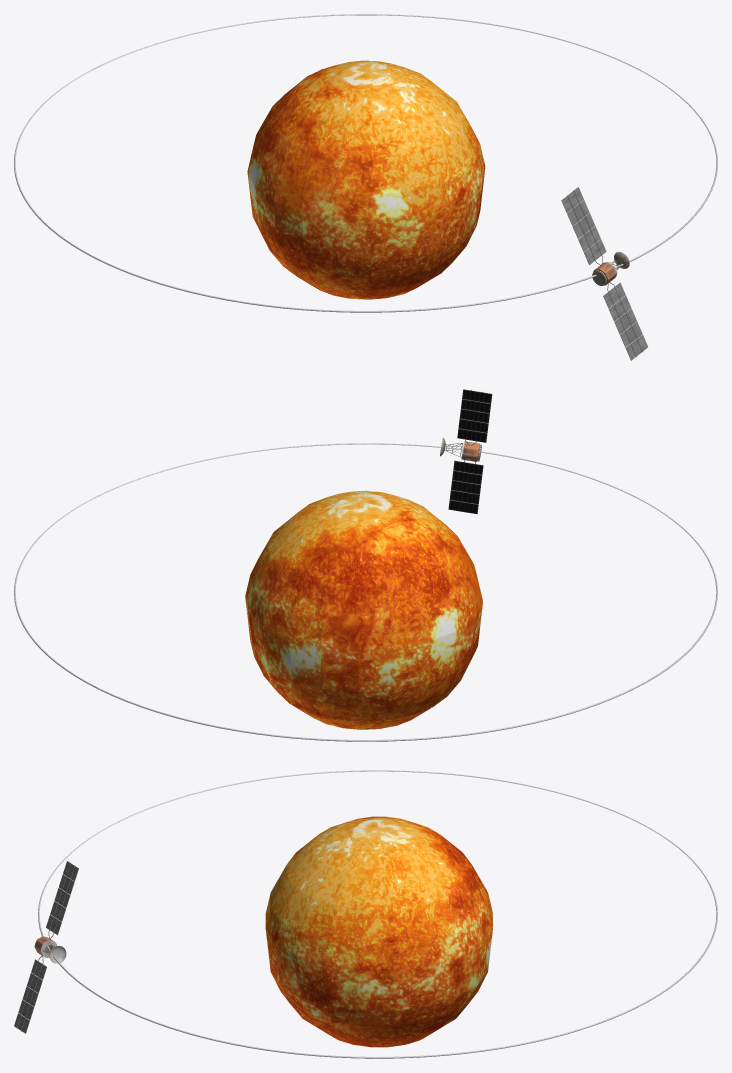
The model's file is satellite_ani.fbx.
3 renders of one model, top to bottom at view 1: azimuth 30°, elevation 25°; view 2: azimuth 150°, elevation 25°; view 3: azimuth 270°, elevation 25°, orthographic. The views are drawn at different scales.
Parts seen in each view (by area): view 1: un, sat, tas; view 2: un, sat, tas; view 3: un, tas, sat.
Part boxes in pixels (x1=…): un: x1=247, y1=60, x2=485, y2=299; sat: x1=561, y1=187, x2=647, y2=360; tas: x1=14, y1=14, x2=717, y2=312; un: x1=245, y1=490, x2=482, y2=729; sat: x1=440, y1=389, x2=492, y2=514; tas: x1=14, y1=443, x2=717, y2=741; un: x1=265, y1=816, x2=492, y2=1047; tas: x1=38, y1=770, x2=717, y2=1058; sat: x1=14, y1=861, x2=78, y2=1033.
Size of the model in its own units: 40.43 by 13.69 by 41.86.
3 materials, 2 textured.
